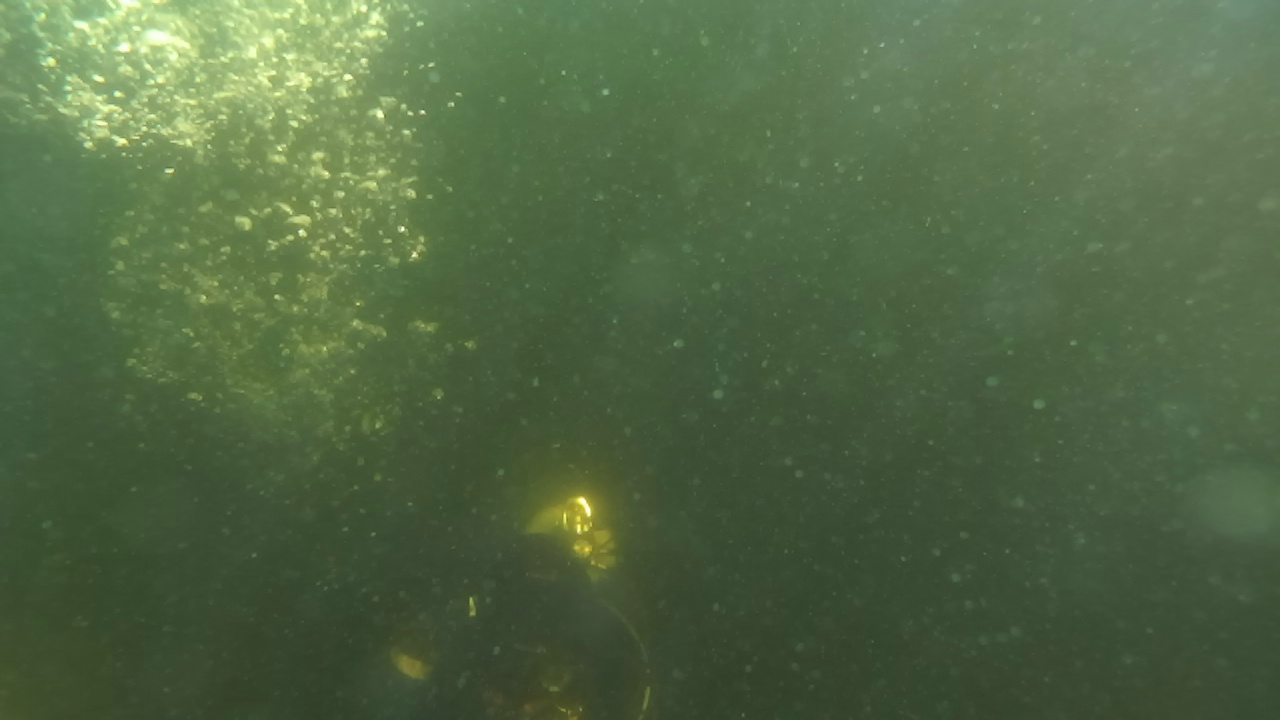Diver: (340, 484, 666, 714)
